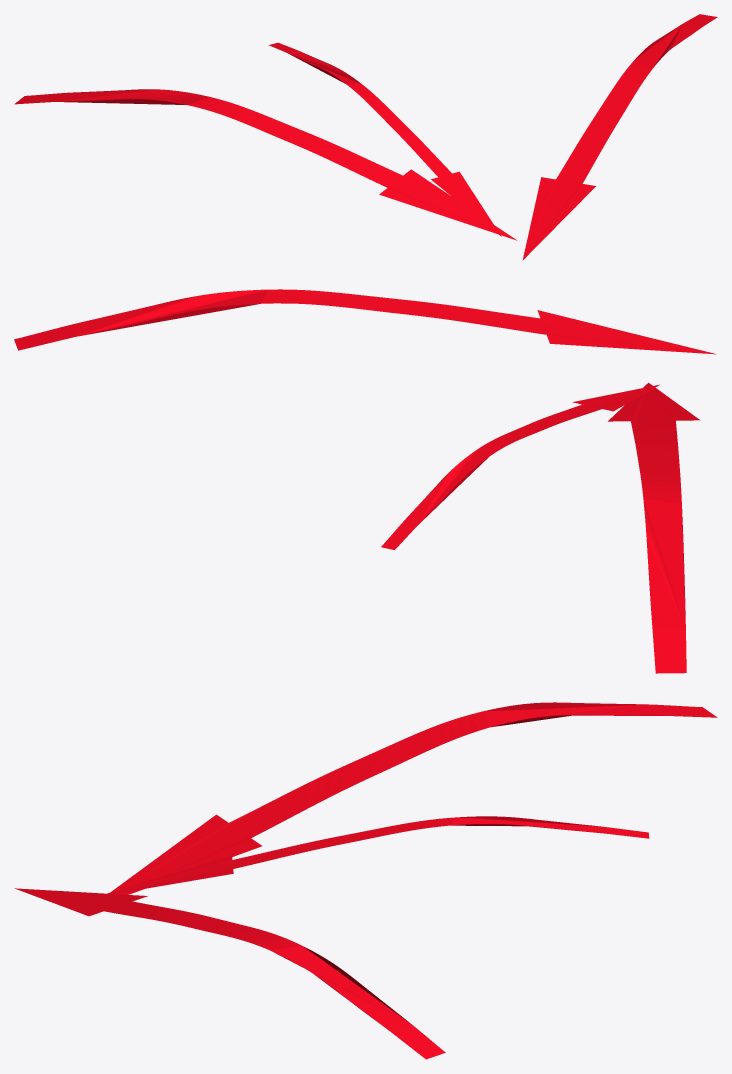
Rendered from animate-shangjinhu.glb.
The picture shows the model from 3 angles, top to bottom: view 1: azimuth 30°, elevation 25°; view 2: azimuth 150°, elevation 25°; view 3: azimuth 270°, elevation 25°; orthographic projection. The views are drawn at different scales.
Parts seen in each view (by area): view 1: 箭头1, 箭头3, 箭头2; view 2: 箭头1, 箭头3, 箭头2; view 3: 箭头1, 箭头3, 箭头2.
Part boxes in pixels (x1,y1,x2,y2): 箭头1: (14, 89, 516, 240); 箭头3: (522, 14, 717, 260); 箭头2: (269, 42, 501, 236); 箭头1: (608, 382, 699, 673); 箭头3: (14, 289, 716, 354); 箭头2: (381, 384, 659, 549); 箭头1: (111, 702, 717, 894); 箭头3: (14, 888, 445, 1059); 箭头2: (107, 816, 649, 893).
Bounding box in the file's own units: 52.78 × 5.92 × 41.57.
